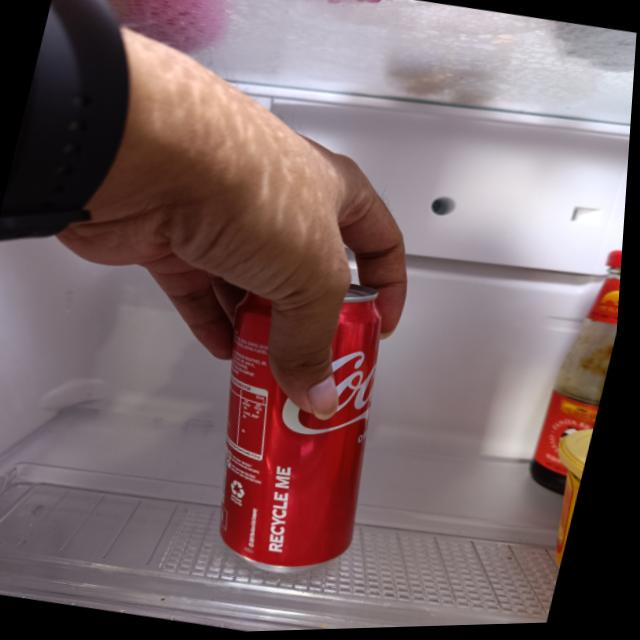coke: (178, 269, 421, 586)
